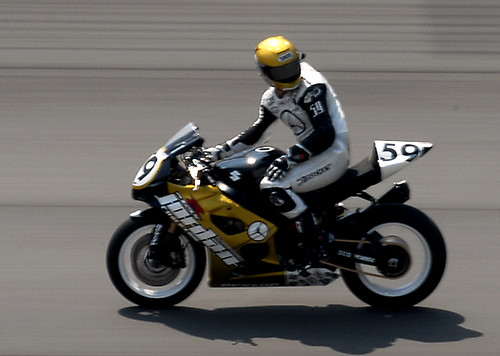helmet: (249, 36, 304, 92)
